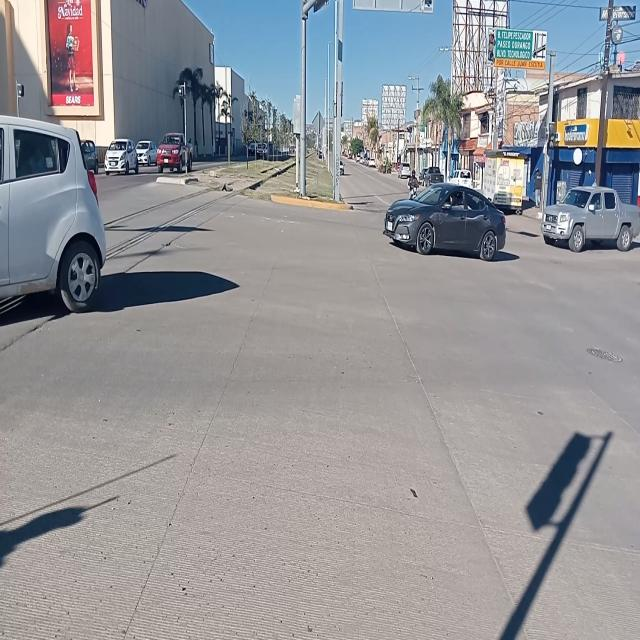Auto: (385, 183, 509, 262), (539, 182, 640, 253), (101, 136, 139, 174)
